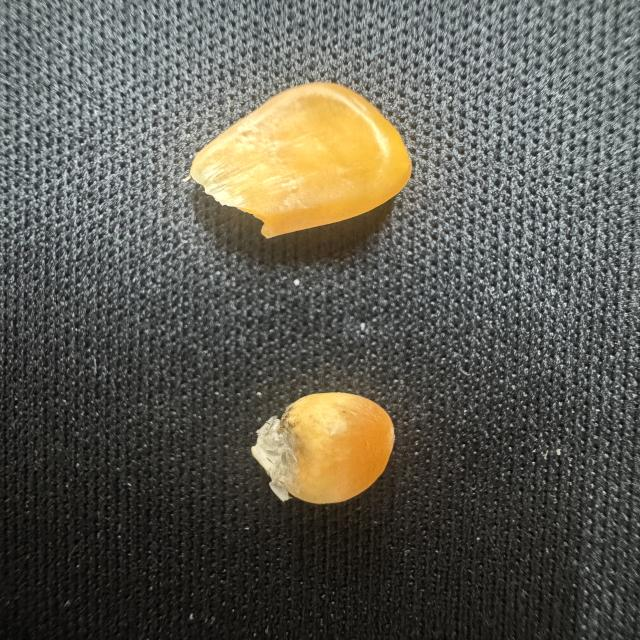Bad-Seed: (180, 72, 421, 256), (250, 380, 404, 514)
